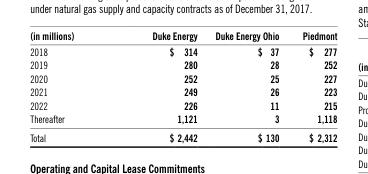table: (29, 28, 336, 143)
table column: (112, 28, 205, 143), (205, 28, 290, 143), (29, 28, 112, 143), (290, 28, 336, 143)
table column header: (29, 28, 336, 43)
table row: (29, 111, 336, 127), (29, 127, 336, 143), (29, 28, 336, 43), (29, 43, 336, 57), (29, 57, 336, 71), (29, 84, 336, 98), (29, 71, 336, 84), (29, 98, 336, 111)
